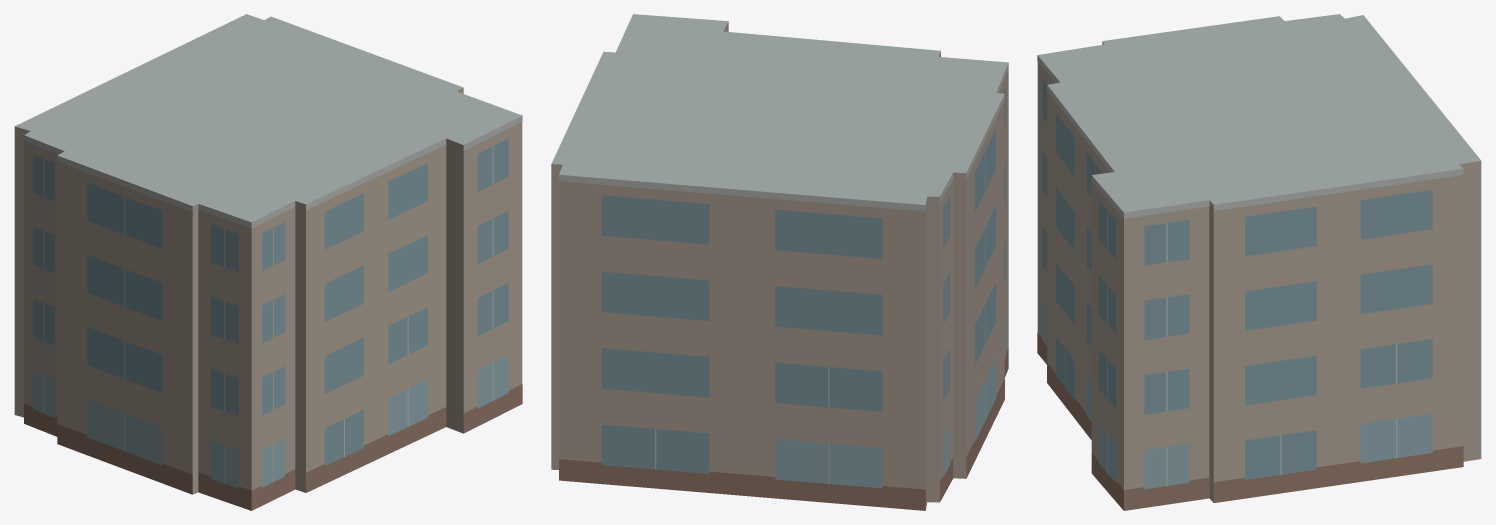
The model's file is survey-upis-33008393.glb.
3 renders of one model, left to right at view 1: azimuth 30°, elevation 25°; view 2: azimuth 150°, elevation 25°; view 3: azimuth 270°, elevation 25°, orthographic. The views are drawn at different scales.
Parts seen in each view (by area): view 1: survey-upis-33008393.tmp; view 2: survey-upis-33008393.tmp; view 3: survey-upis-33008393.tmp.
Boxes of the visible parts, x1,y1,x2,y2 form: survey-upis-33008393.tmp: [14, 14, 522, 510]; survey-upis-33008393.tmp: [551, 14, 1008, 510]; survey-upis-33008393.tmp: [1037, 14, 1481, 510].
Bounding box in the file's own units: 16.73 × 11.7 × 15.8.
